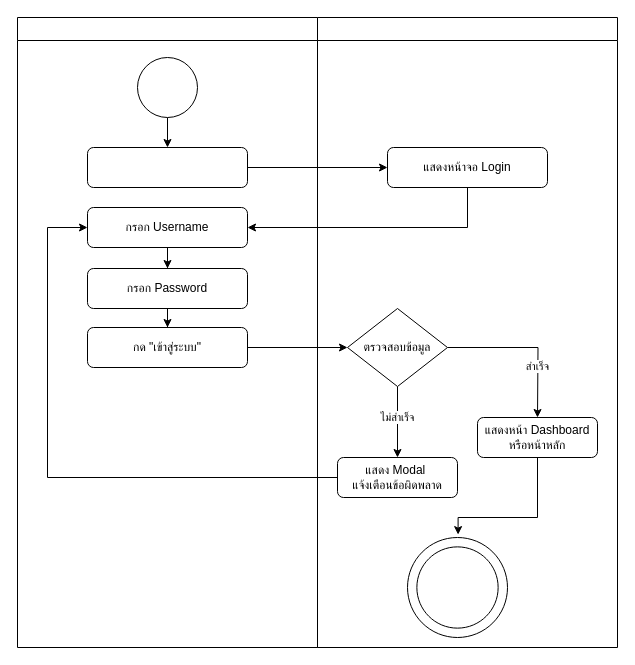
Image size: 635x665. Some labels were removed from this diagram. The shapes that lost their labels are listed below. From the top down, each one's box as (x1, y1, x2, y2) in pixels, then its label:
(86, 146, 248, 188): เลือกเข้าสู่หน้าจอเข้าสู่ระบบ
(16, 16, 318, 648): Actor
(316, 16, 618, 648): System
